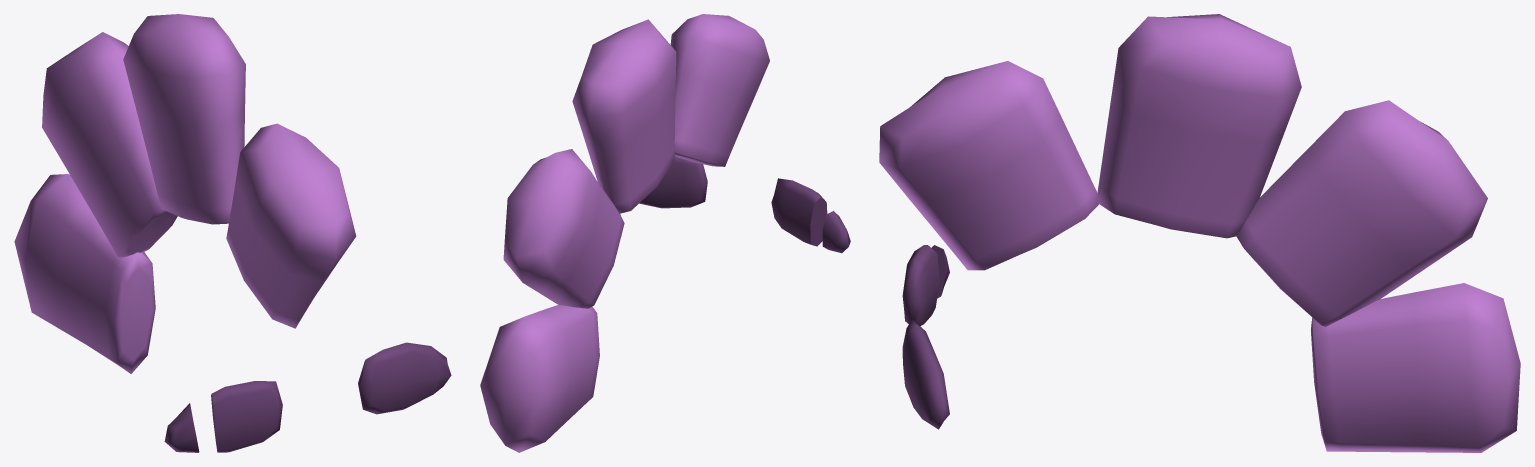
File: sac04.fbx
3 renders of one model, left to right at view 1: azimuth 30°, elevation 25°; view 2: azimuth 150°, elevation 25°; view 3: azimuth 270°, elevation 25°, orthographic. The views are drawn at different scales.
Parts seen in each view (by area): view 1: sac04; view 2: sac04; view 3: sac04.
Part boxes in pixels (<box>): sac04: <box>14,14,451,452</box>; sac04: <box>480,14,850,452</box>; sac04: <box>879,14,1520,452</box>.
Size of the model in its own units: 2.42 by 3.25 by 4.33.
